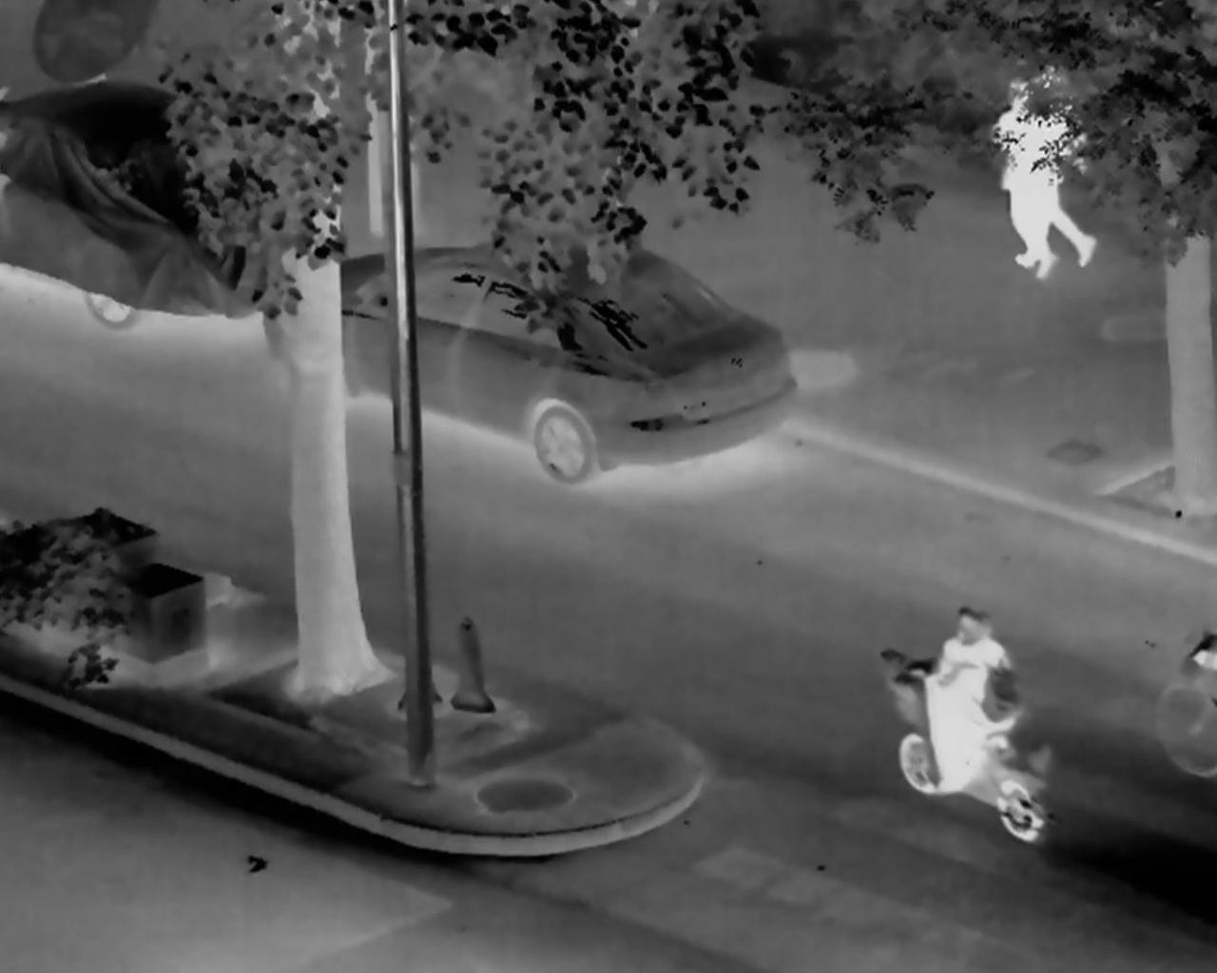person: (916, 601, 1018, 808), (988, 78, 1058, 283), (1044, 94, 1098, 272)
